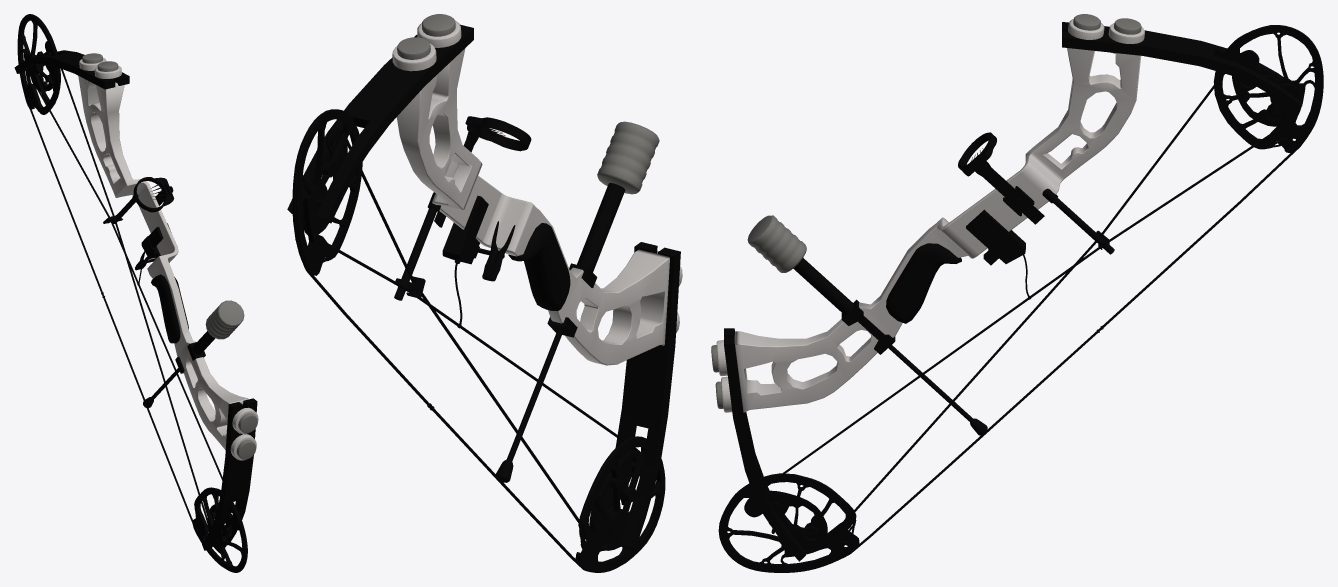
Rendered from compound-transformed.glb.
The picture shows the model from 3 angles, left to right: view 1: azimuth 30°, elevation 25°; view 2: azimuth 150°, elevation 25°; view 3: azimuth 270°, elevation 25°; orthographic projection. The views are drawn at different scales.
Visible parts, largest first — view 1: compoundBow; view 2: compoundBow; view 3: compoundBow.
Part boxes in pixels (x1=…): compoundBow: x1=14, y1=14, x2=258, y2=572; compoundBow: x1=287, y1=14, x2=682, y2=572; compoundBow: x1=711, y1=14, x2=1323, y2=572.
Size of the model in its own units: 0.5625 by 6.27 by 6.27.
Materials: 1 (1 with a texture image).
